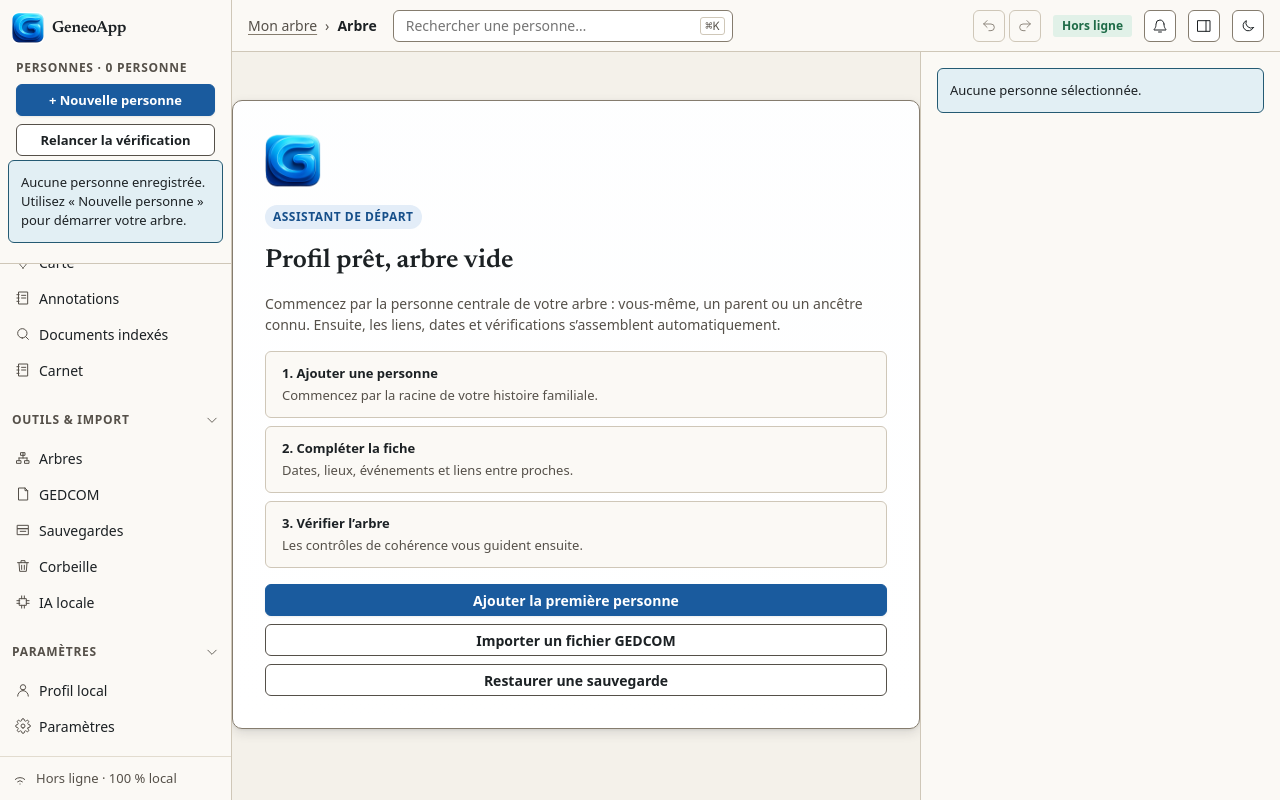
App › exige une connexion avant d’accéder aux sauvegardes et à la corbeille
(page scrolled)
Expected: the text "Aucune personne enregistrée" is shown, [21, 173, 205, 229]
Step 1. Click the button "Sauvegardes" → (116, 530), box [4, 512, 227, 548]
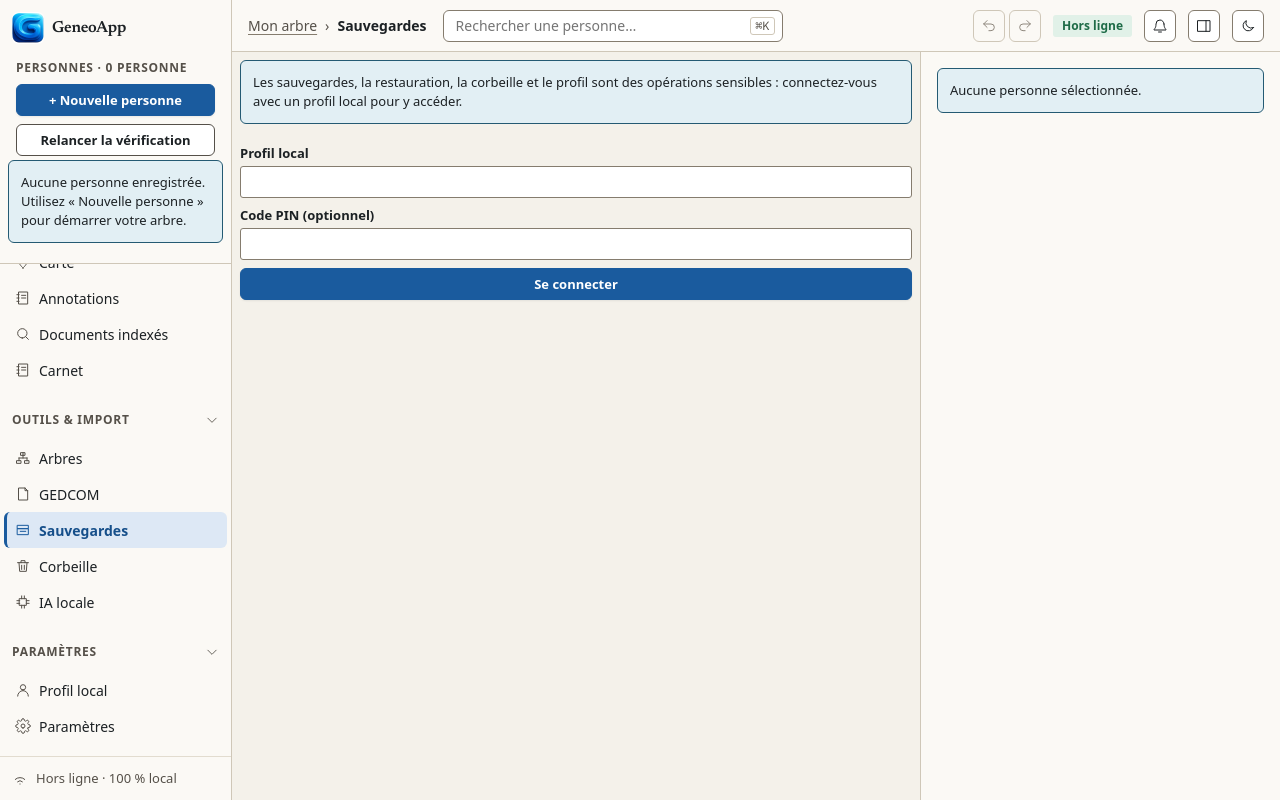
Now the text "connectez-vous avec un profil local" is shown, box [253, 73, 877, 110]
Step 2. Type "Alice" into the field labelled "Profil local" → (576, 182), box [240, 166, 912, 198]
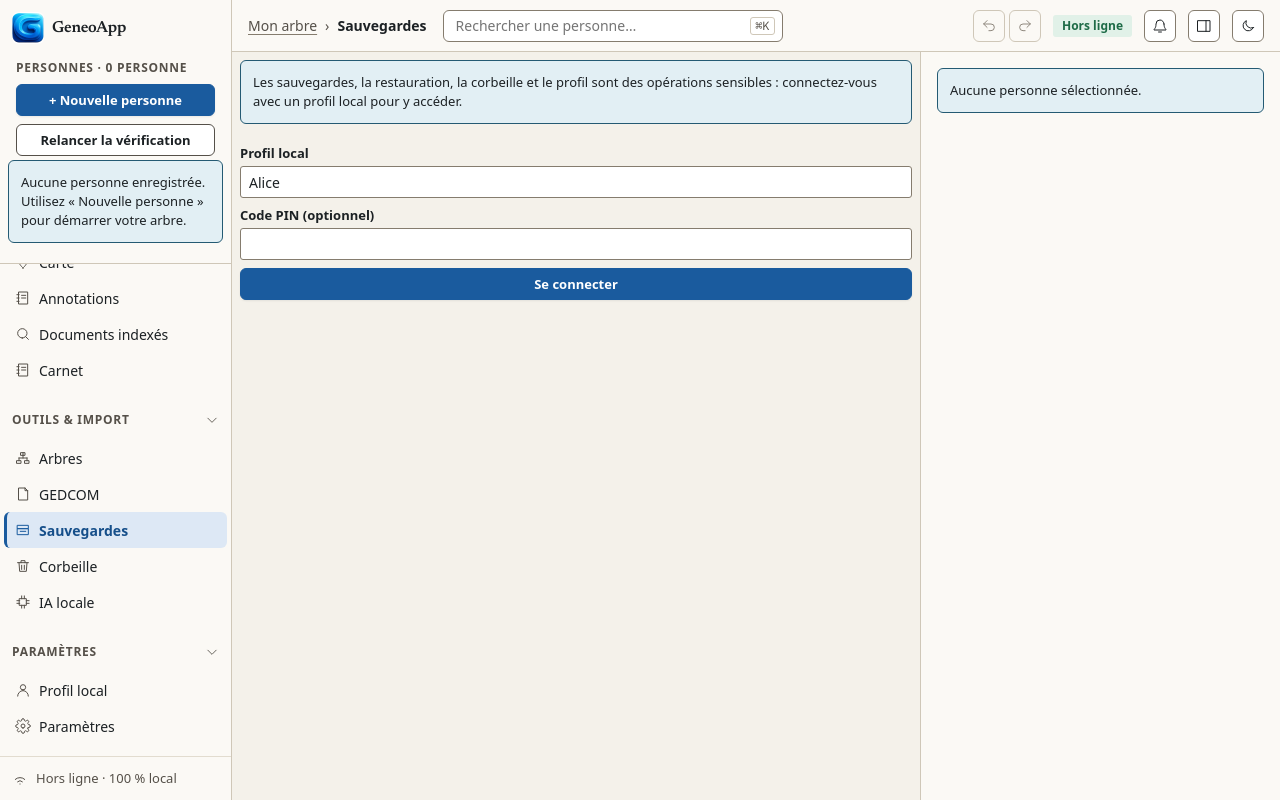
Step 3. Click the button "Se connecter" → (576, 284), box [240, 268, 912, 300]
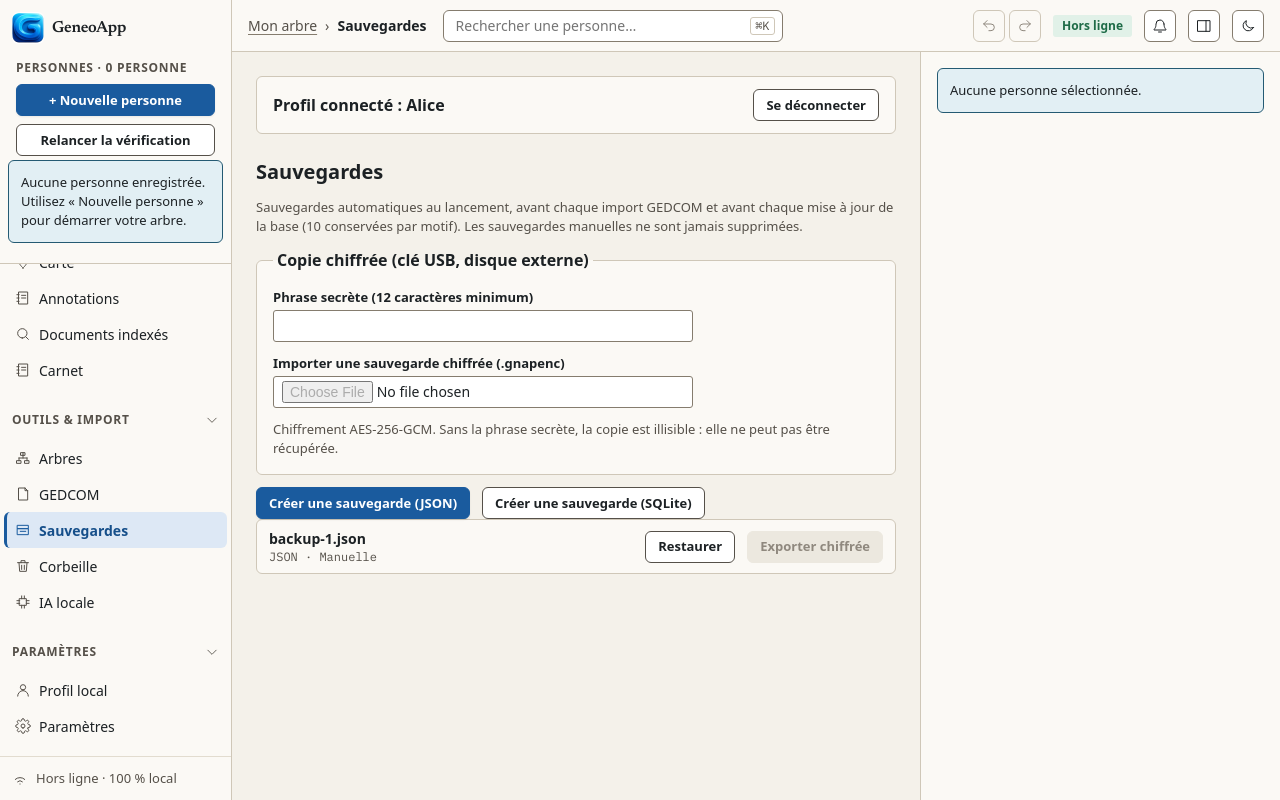
Now the text "backup-1.json" is shown, box [269, 529, 366, 548]
Step 4. Click the button "Corbeille" → (116, 566), box [4, 548, 227, 584]
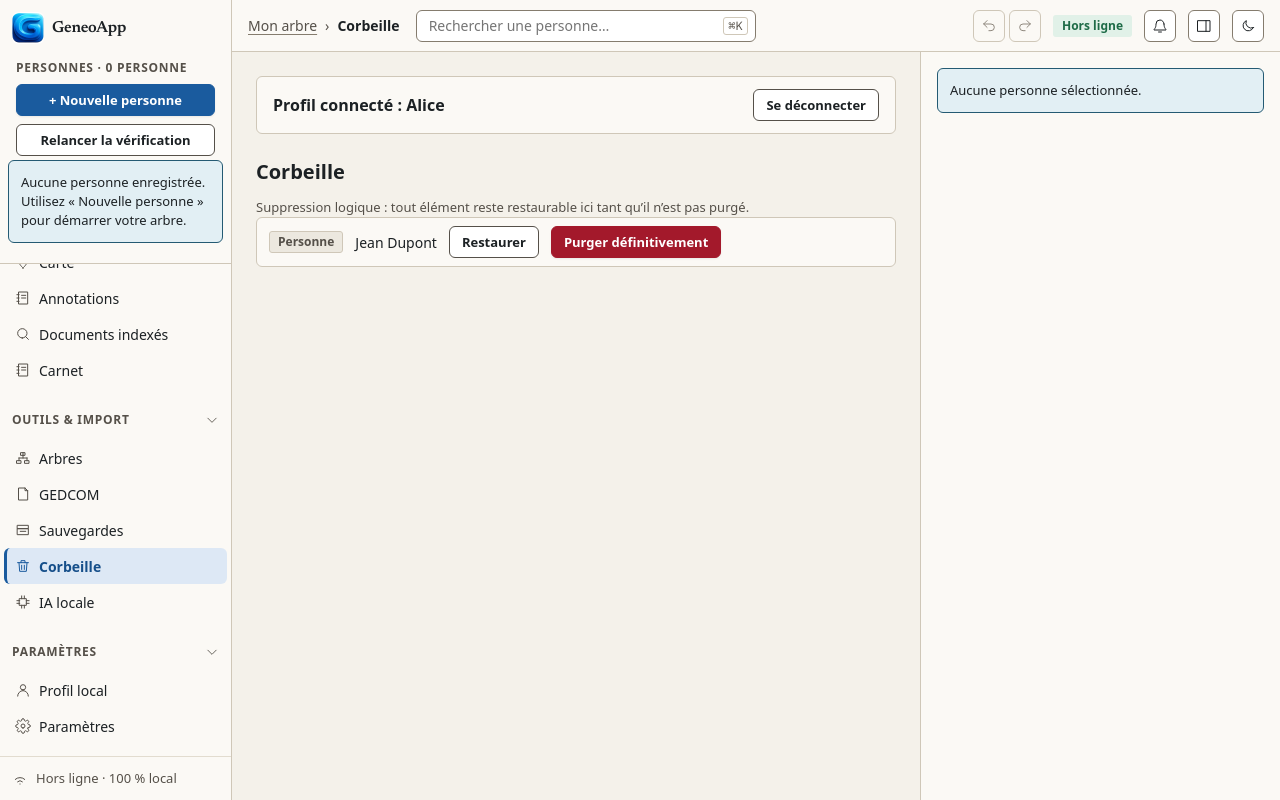
Now the list item "Personne Jean Dupont Restaurer Purger définitivement" is shown, box [269, 226, 721, 258]
Step 5. Click the button "Purger définitivement" → (636, 242), box [551, 226, 721, 258]
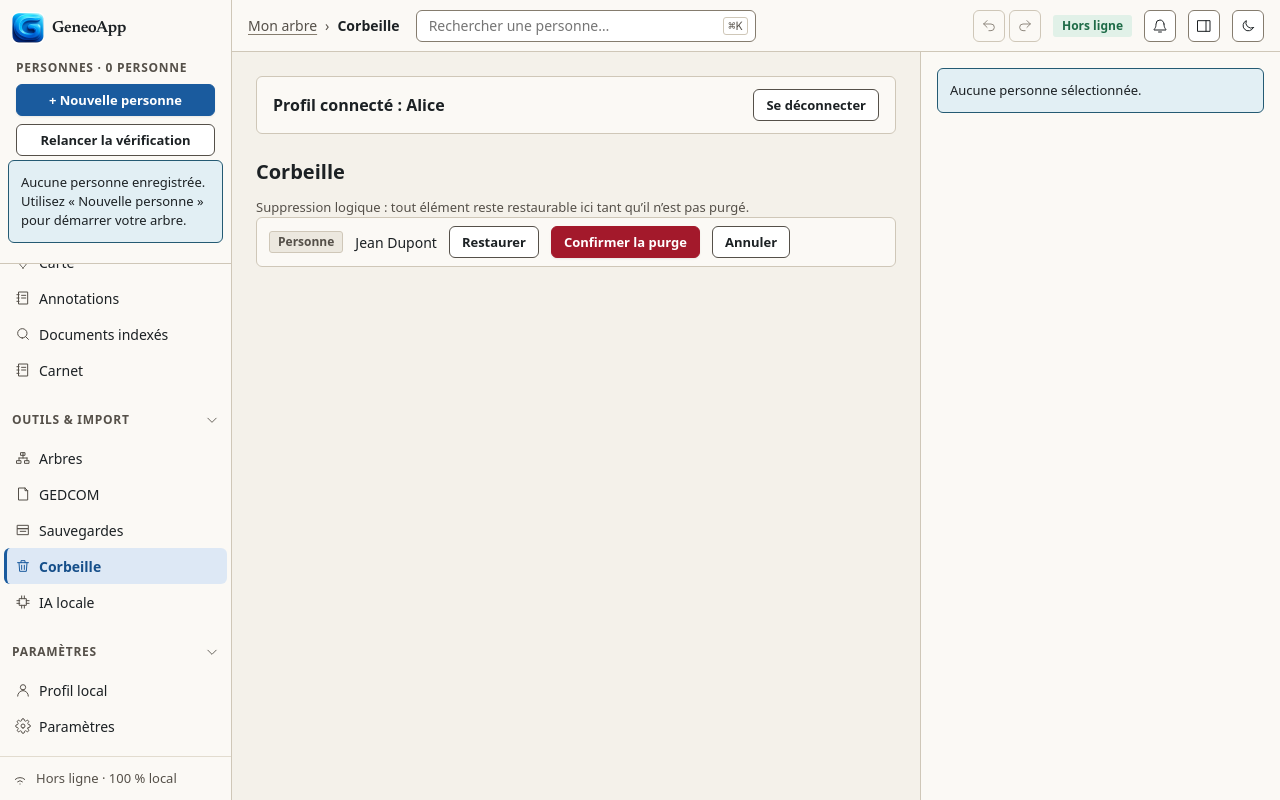
Step 6. Click the button "Annuler" → (751, 242), box [712, 226, 790, 258]
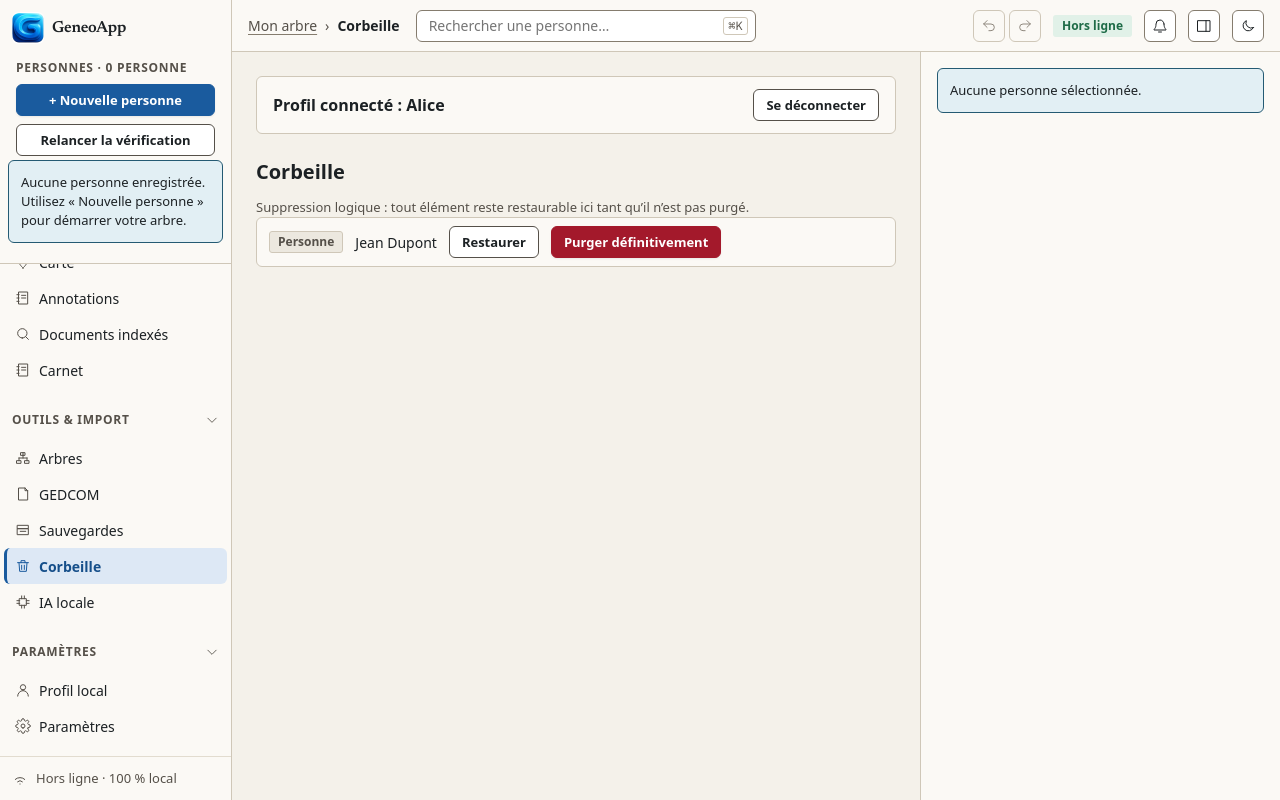
Now the button "Purger définitivement" is shown, box [551, 226, 721, 258]
